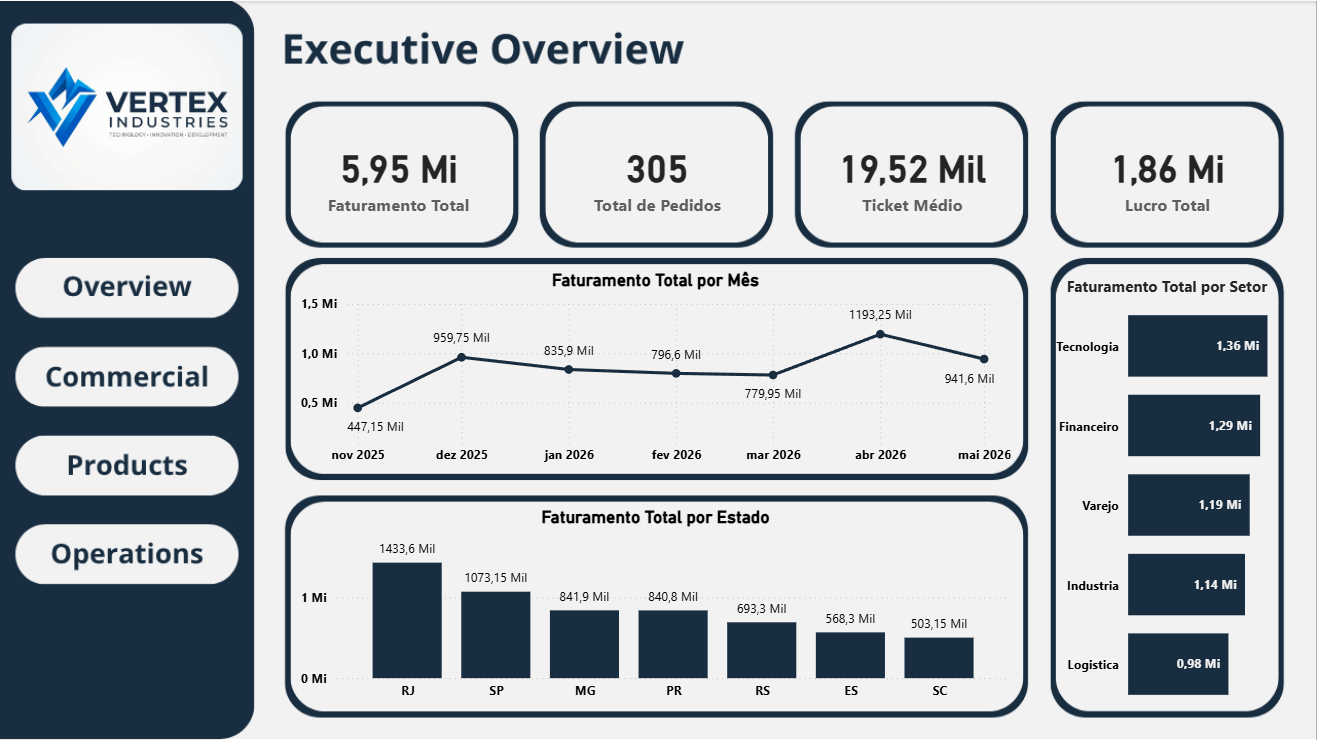

The dashboard page shown, as its layout file describes it:
{"tool":"powerbi","page":{"name":"Overview","canvas":[1280,720],"ordinal":0},"visuals":[{"type":"card","fields":{"Values":["vertex_industries vw_dashboard_executivo.Faturamento Total"]},"box":[273.3,103.1,228.6,134.2],"z":0},{"type":"card","fields":{"Values":["vertex_industries vw_dashboard_executivo.Total Pedidos"]},"box":[525.2,103.1,228.6,134.2],"z":1000},{"type":"card","fields":{"Values":["vertex_industries vw_dashboard_executivo.Ticket Medio"]},"box":[773.3,103.1,228.6,134.2],"z":2000},{"type":"card","fields":{"Values":["vertex_industries vw_dashboard_executivo.Lucro Total"]},"box":[1021.3,103.1,228.6,134.2],"z":3000},{"type":"lineChart","title":"Faturamento Total por Mês","fields":{"Y":["vertex_industries vw_dashboard_executivo.Faturamento Total"],"Category":["vertex_industries vw_vendas_comercial.data_pedido.Variation.Hierarquia de datas.Ano","vertex_industries vw_vendas_comercial.data_pedido.Variation.Hierarquia de datas.Mês"]},"box":[286.9,261.6,701.3,197.4],"z":4000},{"type":"columnChart","title":"Faturamento Total por Estado","fields":{"Category":["vertex_industries vw_vendas_comercial.estado"],"Y":["vertex_industries vw_dashboard_executivo.Faturamento Total"]},"box":[286.9,492.2,701.3,196.5],"z":5000},{"type":"barChart","fields":{"Category":["vertex_industries vw_vendas_comercial.setor"],"Y":["vertex_industries vw_dashboard_executivo.Faturamento Total"]},"box":[1021.3,261.6,258.7,451.3],"z":6000},{"type":"textbox","box":[1016.4,261.6,237.3,35],"z":7000},{"type":"actionButton","box":[22.4,336.5,201.3,58.4],"z":7001},{"type":"actionButton","box":[22.4,423.1,201.3,56.4],"z":7002},{"type":"actionButton","box":[22.4,509.7,201.3,56.4],"z":7003}]}

Visuals, with their boxes in screenshot pixels (x1, y1, x2, y2), scaled from the page's 1280x720 canvas onto the 1317x740 screenshot:
card - vertex_industries vw_dashboard_executivo.Faturamento Total: select_region(281, 106, 516, 244)
card - vertex_industries vw_dashboard_executivo.Total Pedidos: select_region(540, 106, 776, 244)
card - vertex_industries vw_dashboard_executivo.Ticket Medio: select_region(796, 106, 1031, 244)
card - vertex_industries vw_dashboard_executivo.Lucro Total: select_region(1051, 106, 1286, 244)
"Faturamento Total por Mês" lineChart: select_region(295, 269, 1017, 472)
"Faturamento Total por Estado" columnChart: select_region(295, 506, 1017, 708)
barChart - vertex_industries vw_vendas_comercial.setor x vertex_industries vw_dashboard_executivo.Faturamento Total: select_region(1051, 269, 1316, 733)
textbox: select_region(1046, 269, 1290, 305)
actionButton: select_region(23, 346, 230, 406)
actionButton: select_region(23, 435, 230, 493)
actionButton: select_region(23, 524, 230, 582)
